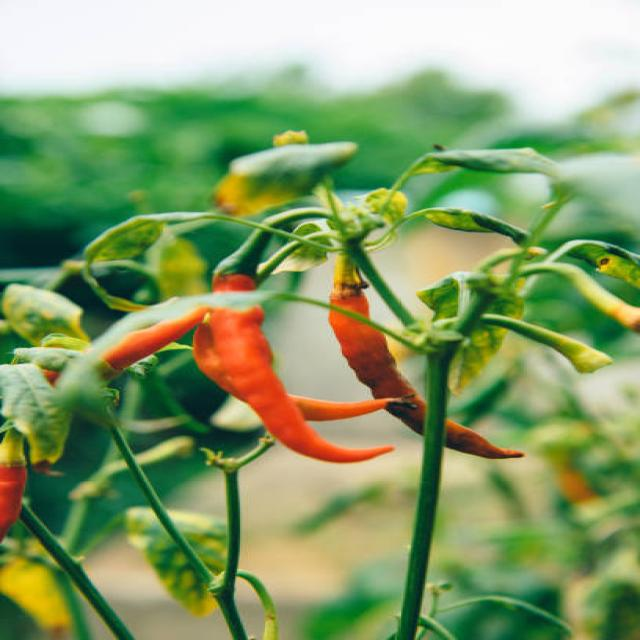Ripe: (333, 281, 529, 461), (193, 308, 392, 462), (97, 306, 215, 374), (447, 420, 519, 457)
